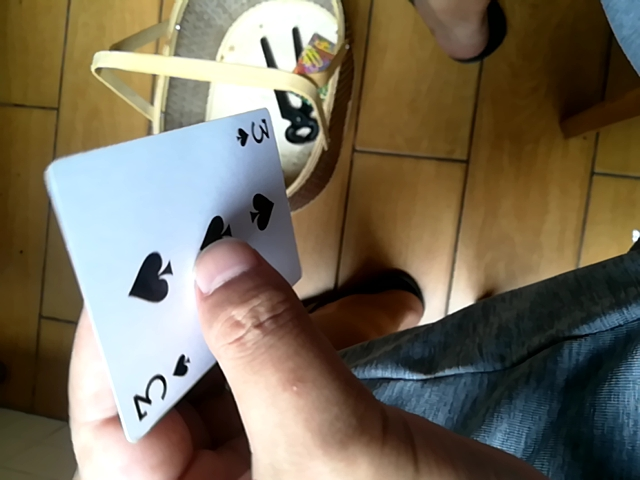ht 3: (51, 79, 302, 451)
